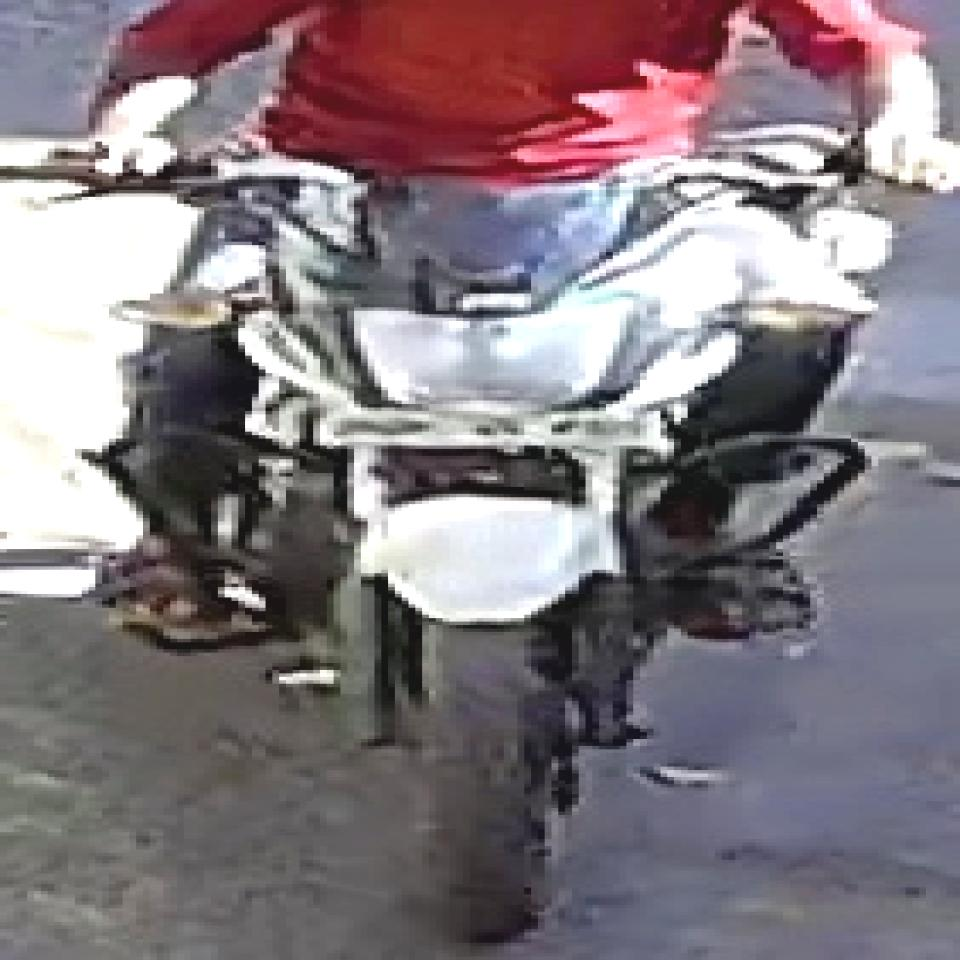head_light: (323, 280, 644, 412)
